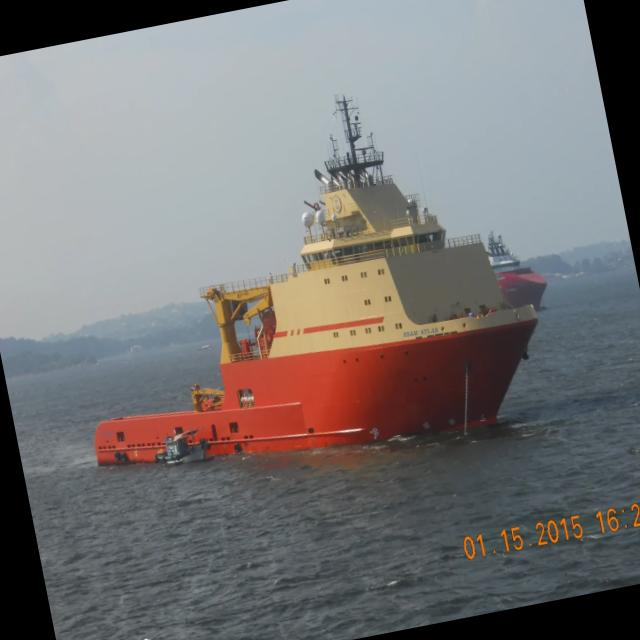Offshore: (95, 100, 538, 465), (488, 234, 547, 309)
